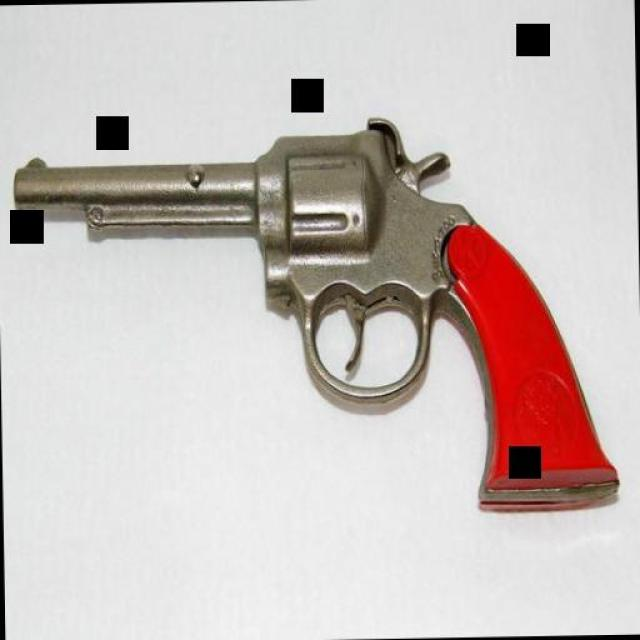gun: (9, 108, 619, 530)
